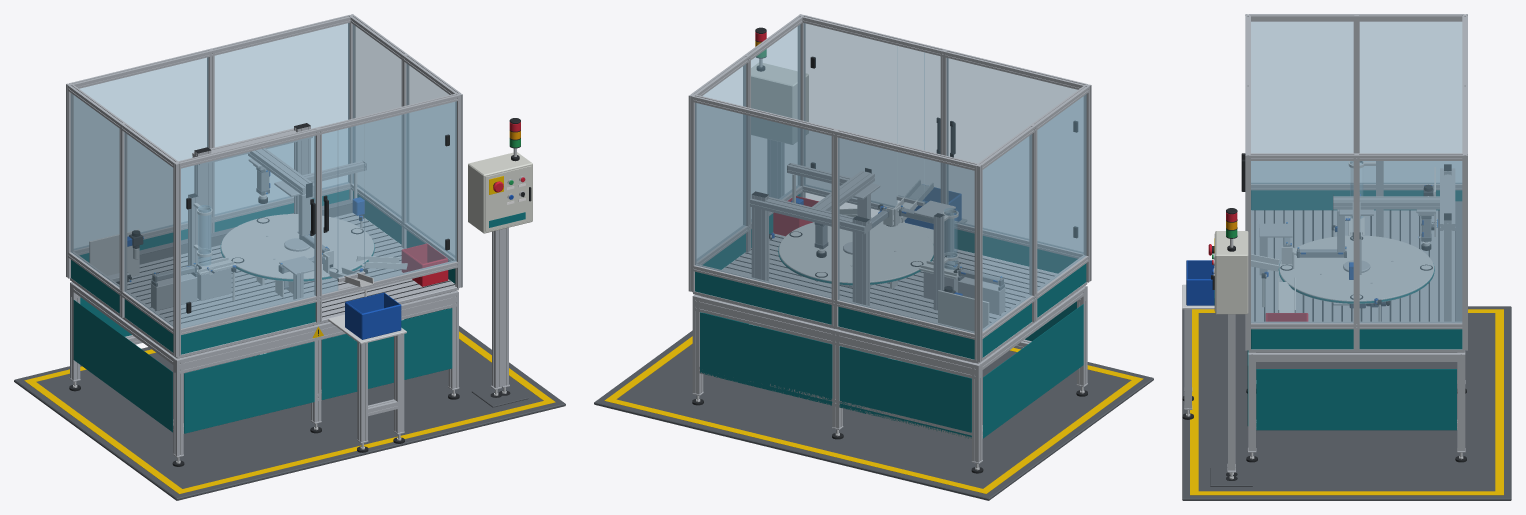
The model's file is indexer.glb.
3 views of the same model, side by side, from view 1: azimuth 30°, elevation 25°; view 2: azimuth 150°, elevation 25°; view 3: azimuth 270°, elevation 25° (orthographic).
Parts seen in each view (by area): view 1: glass_guard, static_alu, static_accent, static_base, table, static_warn, static_inox, static_cabinet, static_valve, static_btnblue, static_black, static_red (+3 smaller); view 2: glass_guard, static_alu, static_accent, static_base, table, static_warn, static_cabinet, static_inox, static_valve, static_black, static_cylbody, glass_feed (+2 smaller); view 3: glass_guard, static_alu, static_base, static_accent, table, static_warn, static_cabinet, static_valve, static_inox, static_btnblue, static_black, static_duct (+2 smaller).
Boxes of the visible parts, x1,y1,x2,y2 form: glass_guard: (70, 23, 456, 328); static_alu: (66, 14, 509, 457); static_accent: (71, 189, 525, 433); static_base: (14, 326, 565, 500); table: (220, 214, 374, 281); static_warn: (24, 176, 555, 493); static_inox: (89, 173, 407, 344); static_cabinet: (468, 152, 532, 233); static_valve: (116, 215, 455, 323); static_btnblue: (127, 195, 513, 339); static_black: (69, 118, 531, 466); static_red: (401, 177, 525, 286); glass_guard: (695, 23, 1086, 332); static_alu: (688, 14, 1091, 463); static_accent: (695, 194, 1086, 438); static_base: (594, 327, 1153, 500); table: (778, 217, 933, 285); static_warn: (604, 336, 1143, 493); static_cabinet: (751, 62, 808, 144); static_inox: (769, 174, 989, 331); static_valve: (725, 236, 1054, 322); static_black: (692, 27, 1087, 473); static_cylbody: (815, 208, 999, 284); glass_feed: (944, 208, 957, 269); glass_guard: (1251, 21, 1462, 323); static_alu: (1184, 14, 1467, 472); static_base: (1182, 306, 1511, 500); static_accent: (1214, 190, 1462, 430); table: (1278, 235, 1434, 303); static_warn: (1190, 238, 1503, 495); static_cabinet: (1214, 231, 1248, 314); static_valve: (1254, 188, 1439, 321); static_inox: (1182, 161, 1435, 321); static_btnblue: (1186, 185, 1431, 305); static_black: (1182, 153, 1466, 480); static_duct: (1455, 201, 1462, 321).
Bounding box in the file's own units: 2.35 × 1.77 × 1.7.
